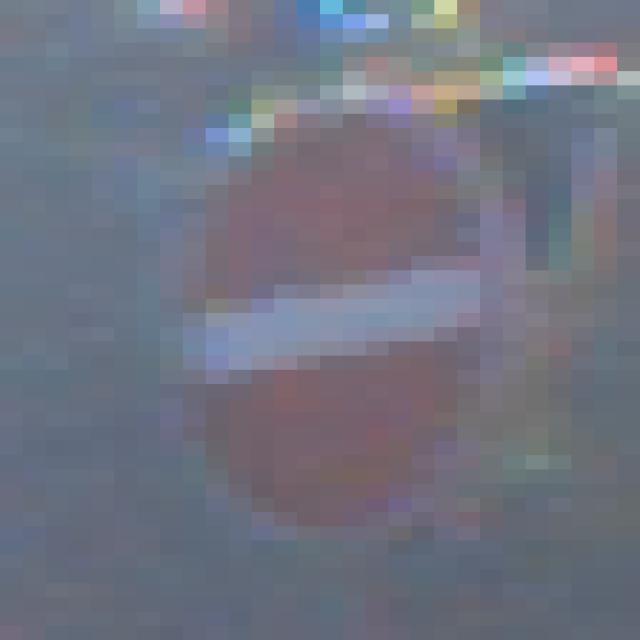No Entry: (138, 72, 527, 570)
